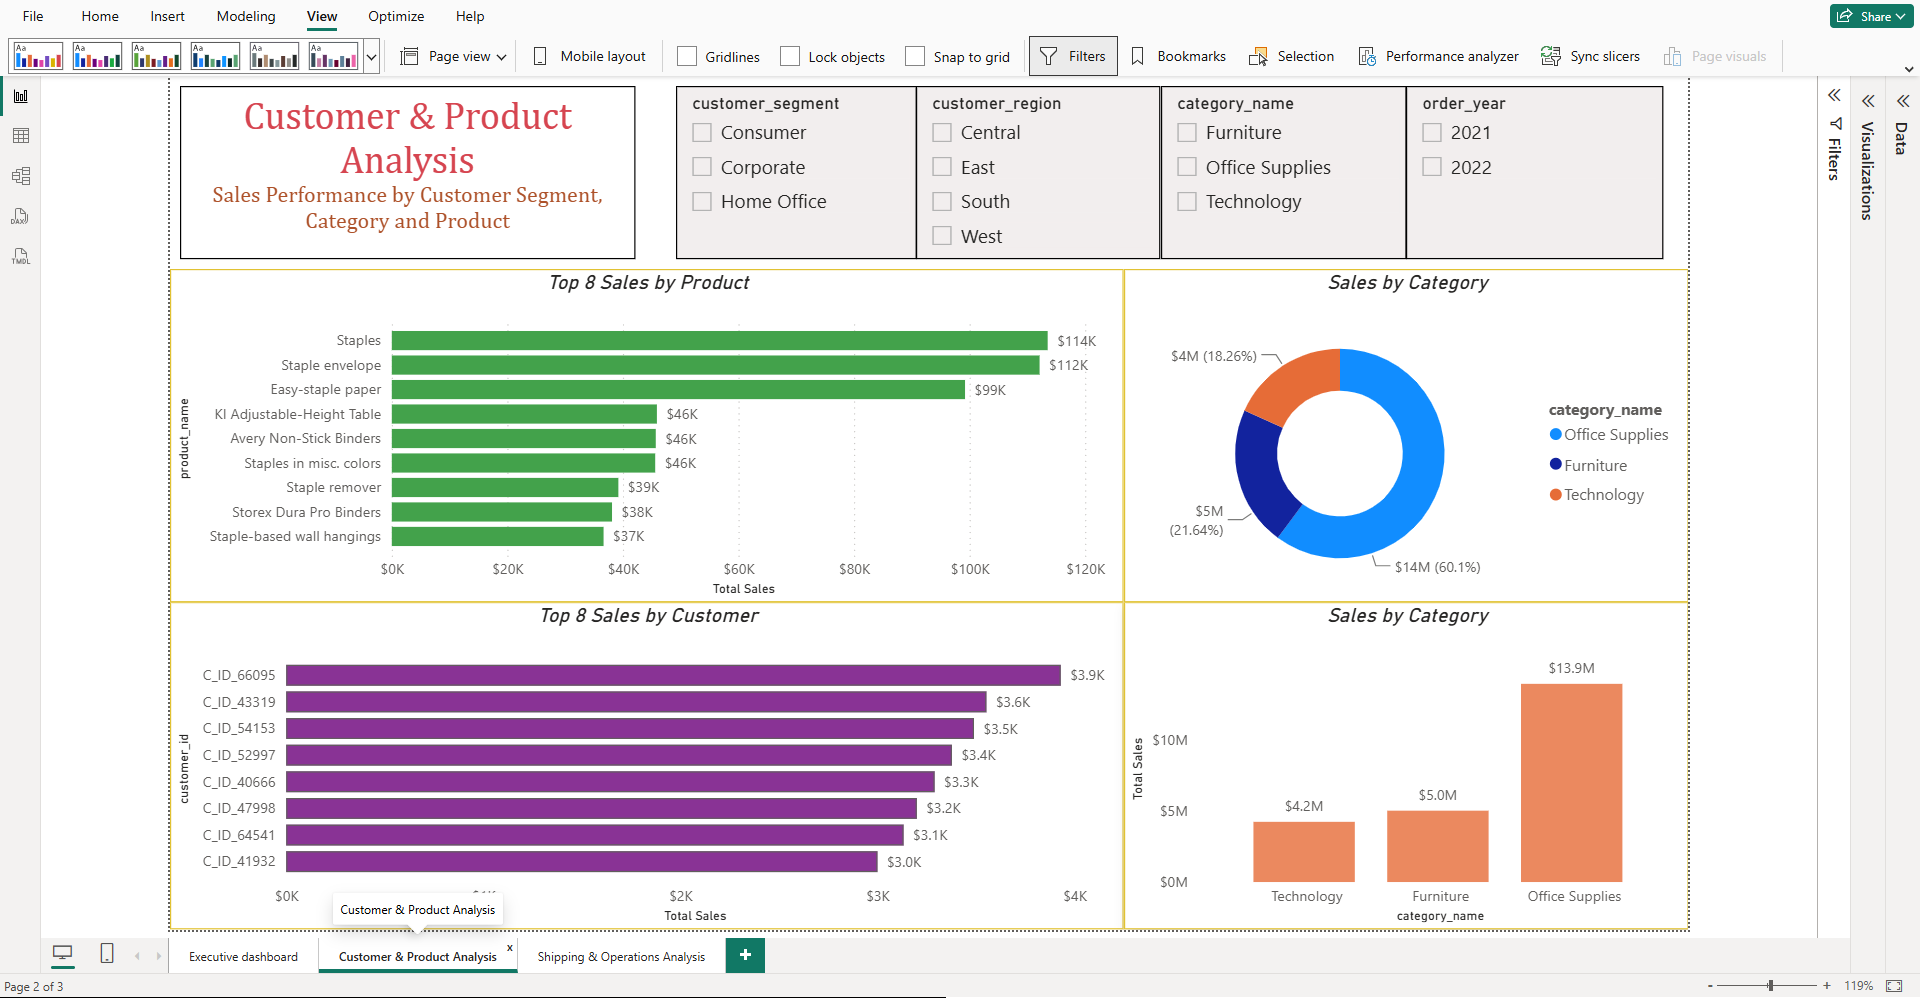

The dashboard page shown, as its layout file describes it:
{"tool":"powerbi","page":{"name":"Customer & Product Analysis","canvas":[1280,720],"ordinal":1},"visuals":[{"type":"textbox","box":[8.1,8.1,383.7,146.2],"z":0},{"type":"clusteredBarChart","title":"Top 8 Sales by Customer","fields":{"Category":["Ecommerce_data.customer_id"],"Y":["Ecommerce_data.Total Sales"]},"box":[0,443.6,803.9,276.1],"z":1000},{"type":"clusteredColumnChart","title":"Sales by Category ","fields":{"Category":["Ecommerce_data.category_name"],"Y":["Ecommerce_data.Total Sales"]},"box":[803.9,443.6,476.1,276.1],"z":2000},{"type":"clusteredBarChart","title":"Top 8 Sales by Product","fields":{"Category":["Ecommerce_data.product_name"],"Y":["Ecommerce_data.Total Sales"]},"box":[0,162.4,803.9,281.2],"z":3000},{"type":"donutChart","title":"Sales by Category ","fields":{"Y":["Ecommerce_data.Total Sales"],"Category":["Ecommerce_data.category_name"]},"box":[803.9,162.4,476.1,281.2],"z":4000},{"type":"slicer","fields":{"Values":["Ecommerce_data.customer_segment"]},"box":[426.3,8.1,203.3,145.9],"z":5000},{"type":"slicer","fields":{"Values":["Ecommerce_data.customer_region"]},"box":[629.3,8.1,206.2,145.9],"z":6000},{"type":"slicer","fields":{"Values":["Ecommerce_data.category_name"]},"box":[835.4,8.1,207.2,145.9],"z":7000},{"type":"slicer","fields":{"Values":["Ecommerce_data.order_year"]},"box":[1042.5,8.1,216.9,145.9],"z":8000}]}

Visuals, with their boxes on the page's 1280x720 design canvas (x1, y1, x2, y2). These are canvas units, not pixel positions in the 1920x998 screenshot, which may show the page scaled, cropped or inside an application window:
textbox: (8,8,392,154)
"Top 8 Sales by Customer" clusteredBarChart: (0,444,804,720)
"Sales by Category " clusteredColumnChart: (804,444,1280,720)
"Top 8 Sales by Product" clusteredBarChart: (0,162,804,444)
"Sales by Category " donutChart: (804,162,1280,444)
slicer - Ecommerce_data.customer_segment: (426,8,630,154)
slicer - Ecommerce_data.customer_region: (629,8,836,154)
slicer - Ecommerce_data.category_name: (835,8,1043,154)
slicer - Ecommerce_data.order_year: (1042,8,1259,154)
